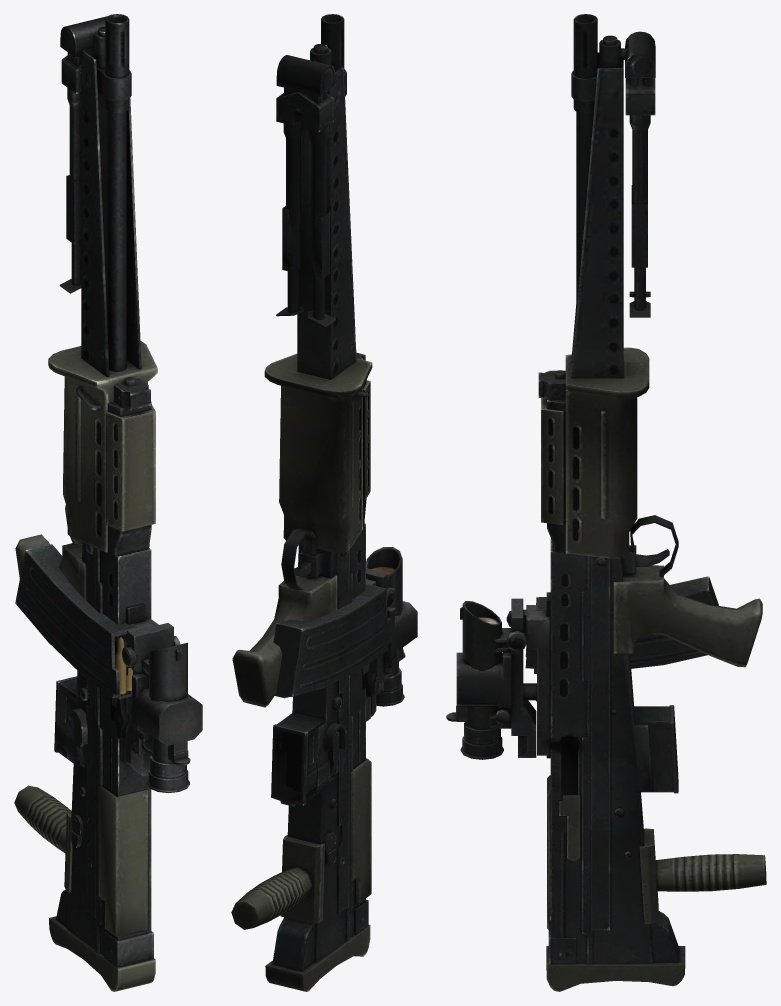
3 renders of one model, left to right at view 1: azimuth 30°, elevation 25°; view 2: azimuth 150°, elevation 25°; view 3: azimuth 270°, elevation 25°, orthographic. The views are drawn at different scales.
Parts seen in each view (by area): view 1: Model_L86 LSW, Model_Scope, Model_Magazine; view 2: Model_L86 LSW, Model_Magazine, Model_Scope; view 3: Model_L86 LSW, Model_Scope, Model_Magazine.
Boxes of the visible parts, x1,y1,x2,y2 form: Model_L86 LSW: [14, 14, 157, 991]; Model_Scope: [114, 603, 202, 792]; Model_Magazine: [15, 544, 137, 699]; Model_L86 LSW: [231, 14, 372, 991]; Model_Magazine: [273, 583, 391, 698]; Model_Scope: [366, 547, 417, 721]; Model_L86 LSW: [538, 14, 766, 991]; Model_Scope: [446, 592, 550, 759]; Model_Magazine: [525, 576, 718, 673].
Bounding box in the file's own units: 0.0942 × 0.9425 × 0.2838.
Materials: 2 (2 with a texture image).
